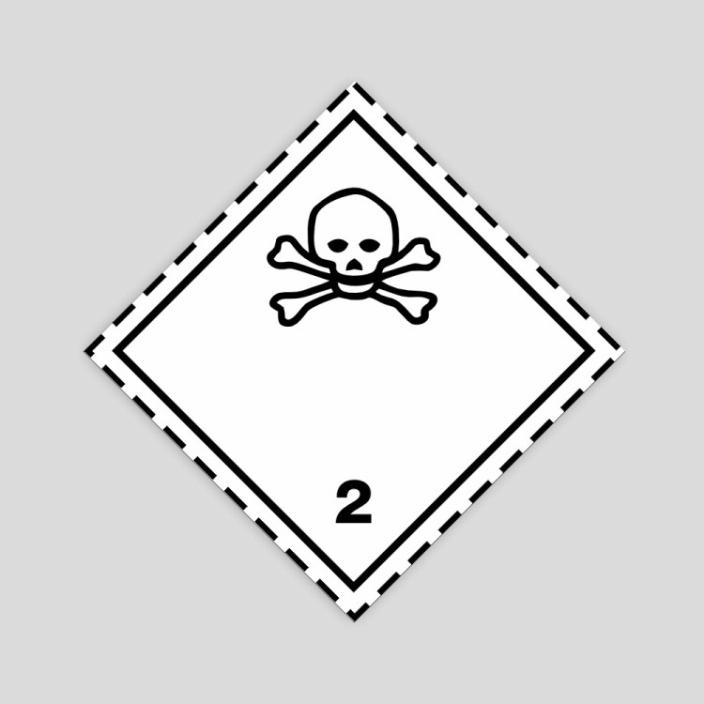camera: (86, 84, 622, 620)
